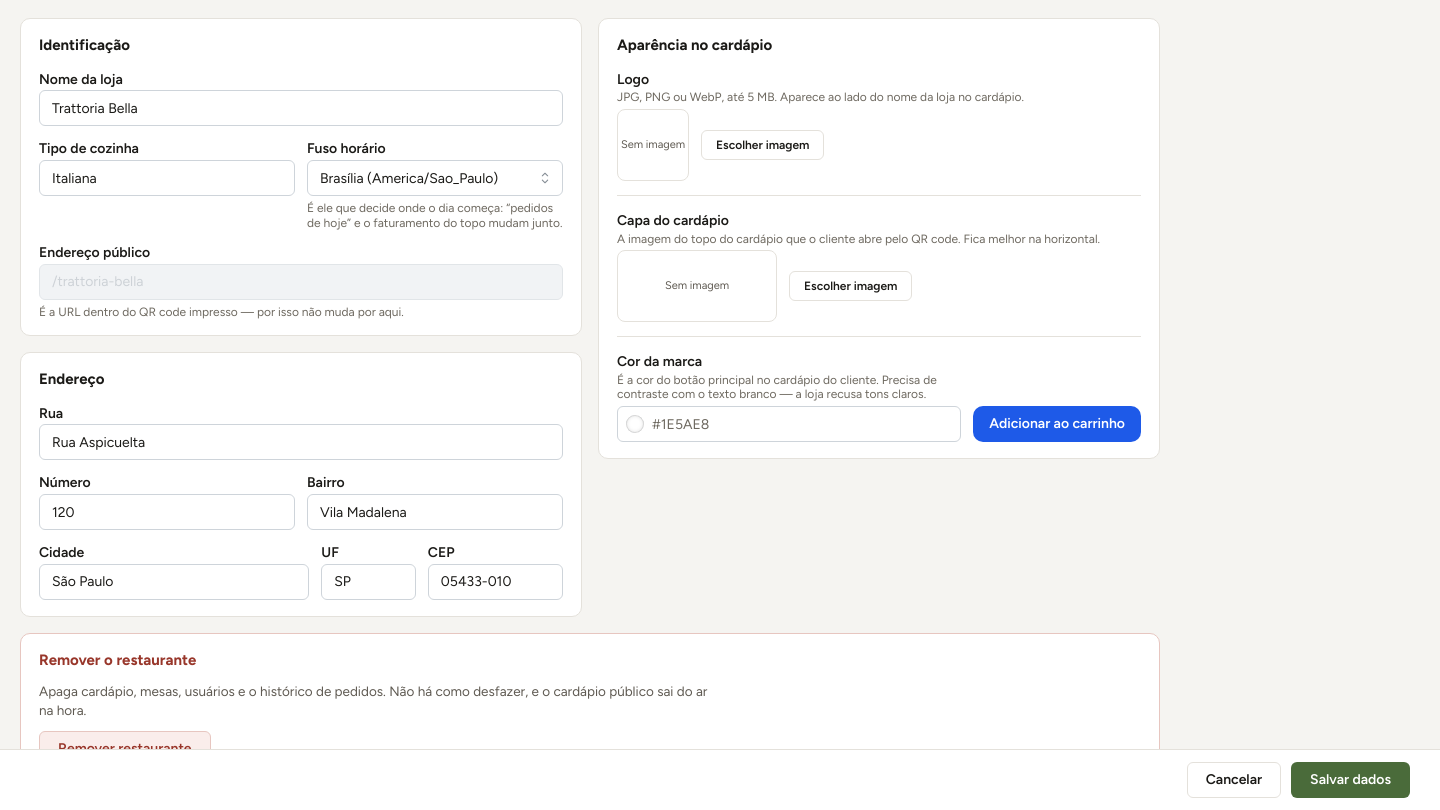
Scenario: StoreDataPage › salva só o que mudou
This screenshot has width=1440, height=810.
Replace the text in the field labelled "Nome da loja" with "Trattoria Bela": (301,108) [39, 90, 563, 126]
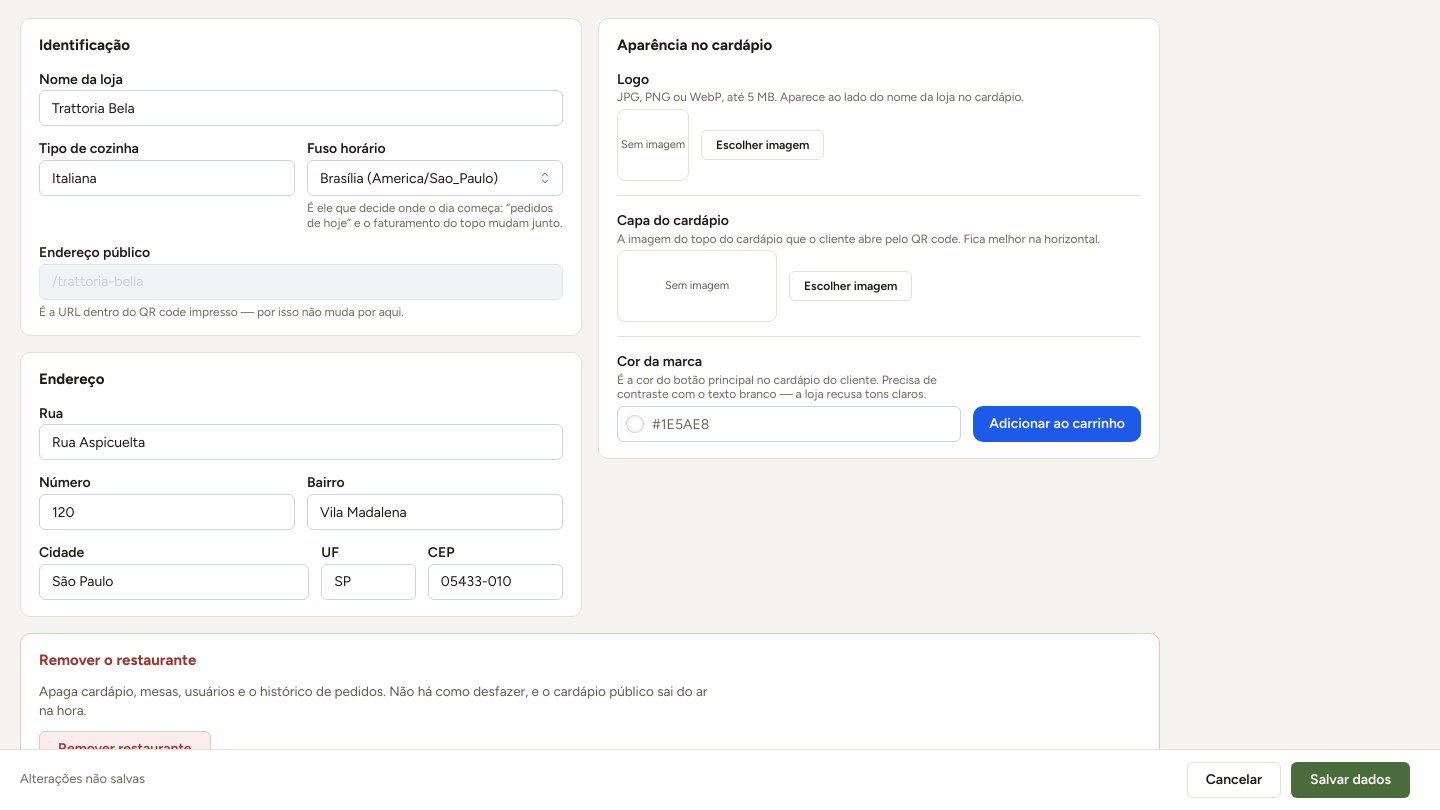
Result: the text "Alterações não salvas" is shown at [20, 771, 145, 789]
Click the button "Salvar dados": (1351,780) [1291, 762, 1410, 798]
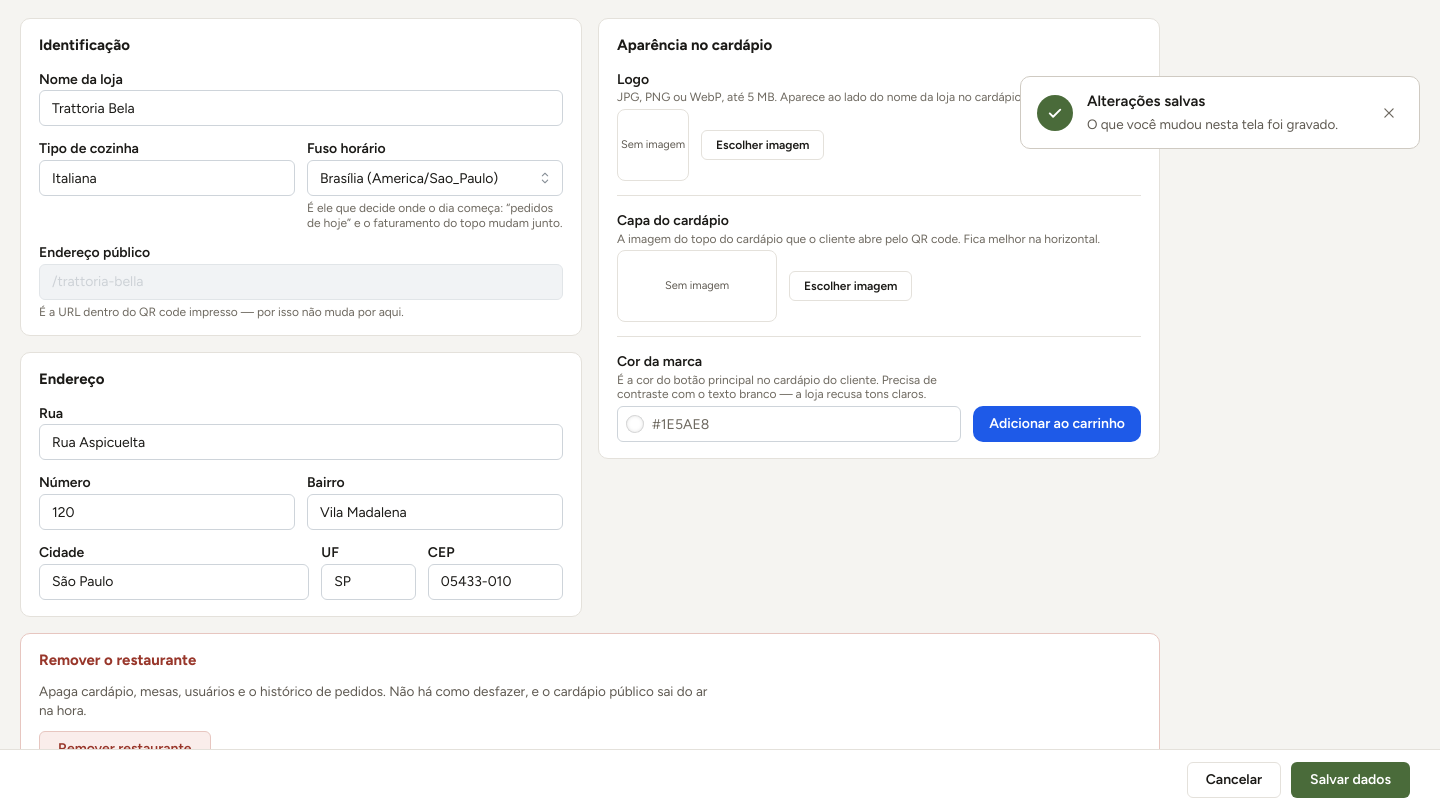
Result: the text "Alterações salvas" is shown at [1087, 92, 1205, 110]
